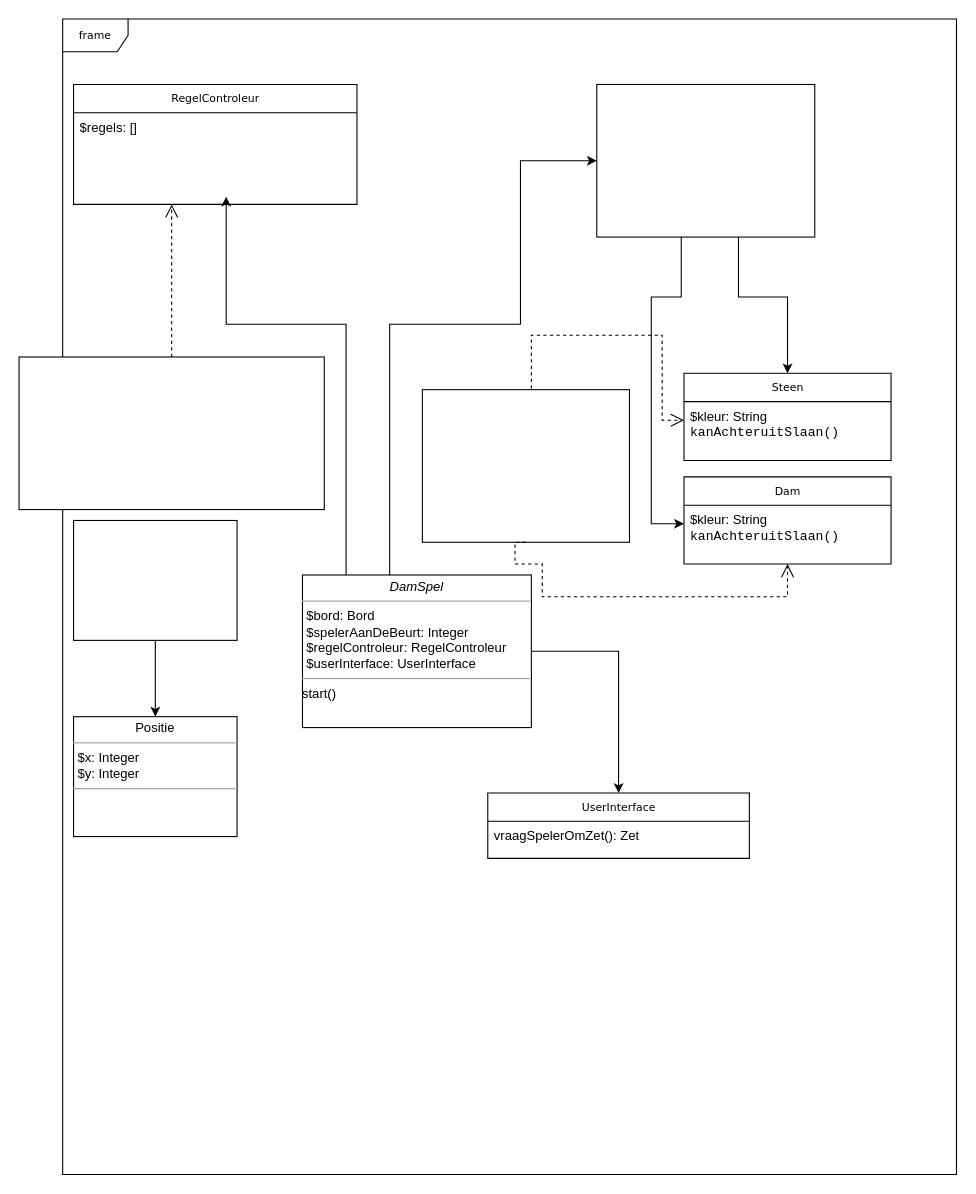
Image size: 976x1194. Some labels were removed from this diagram. Here are the shapes that lost their labels. From the top down, the centre of each, then its label:
point (705, 160): Bord $vakjes: Vak[] voerZetUit($zet) printStatus()
point (171, 433): AbstractRegel Interface check($zet, $bord, $spelerAanDeBeurt)
point (525, 465): AbstractSteen Interface kanAchteruitSlaan()
point (154, 579): Zet $vanPositie: Positie $naarPositie: Positie
